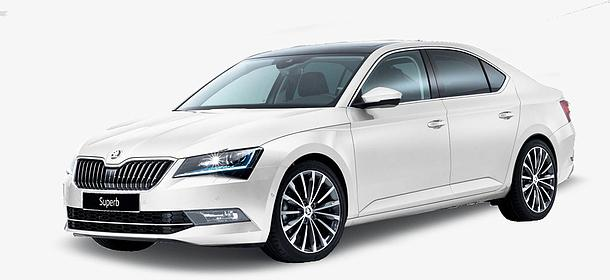汽车: (56, 35, 587, 266)
